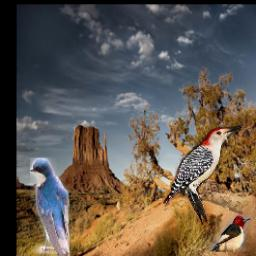Swallow: (31, 158, 71, 256)
Woodpecker: (161, 124, 242, 225), (212, 216, 251, 253)
